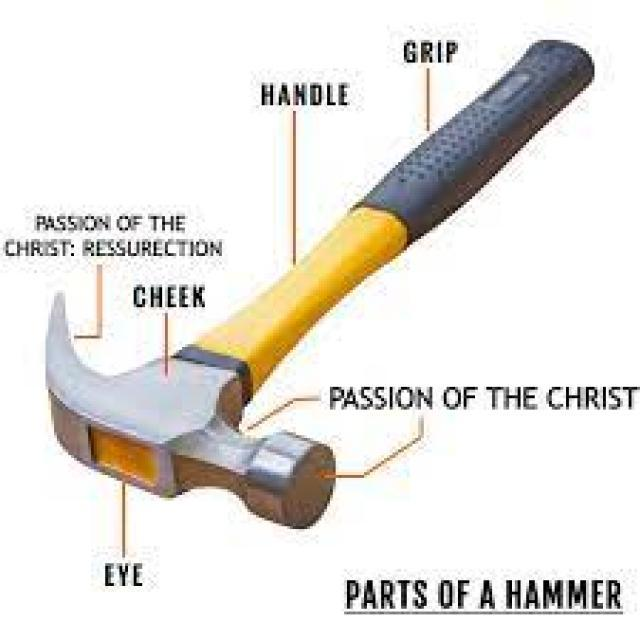hammer: (40, 32, 609, 540)
